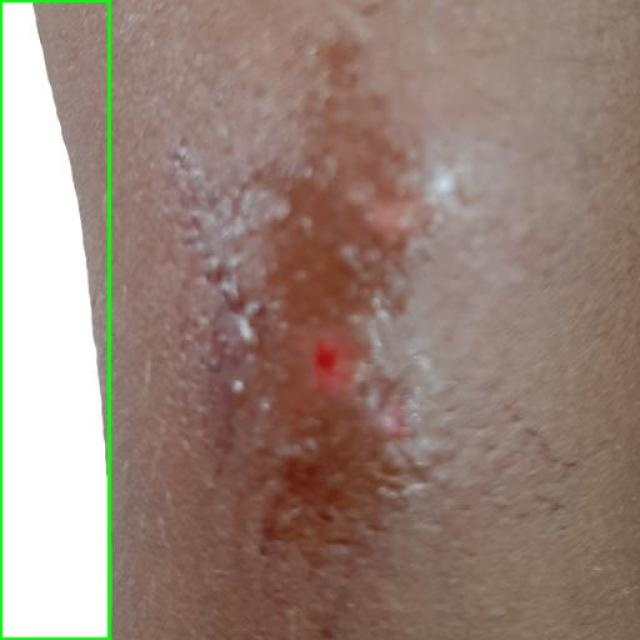Tinea Corporis: (0, 0, 109, 639)
